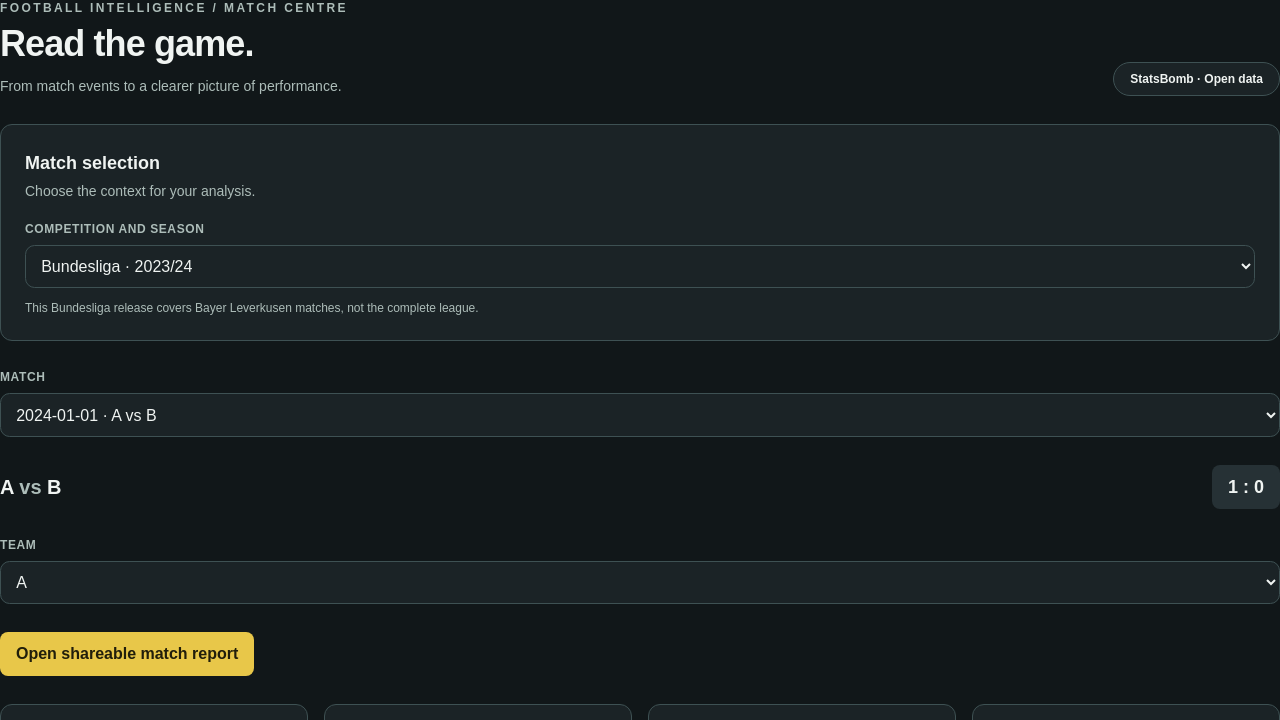
Test case: clears match and player content when a different season has no matches
Select "Bundesliga · 2024/25" in the dropdown labelled "Competition and season": (640, 267) [25,245,1255,288]
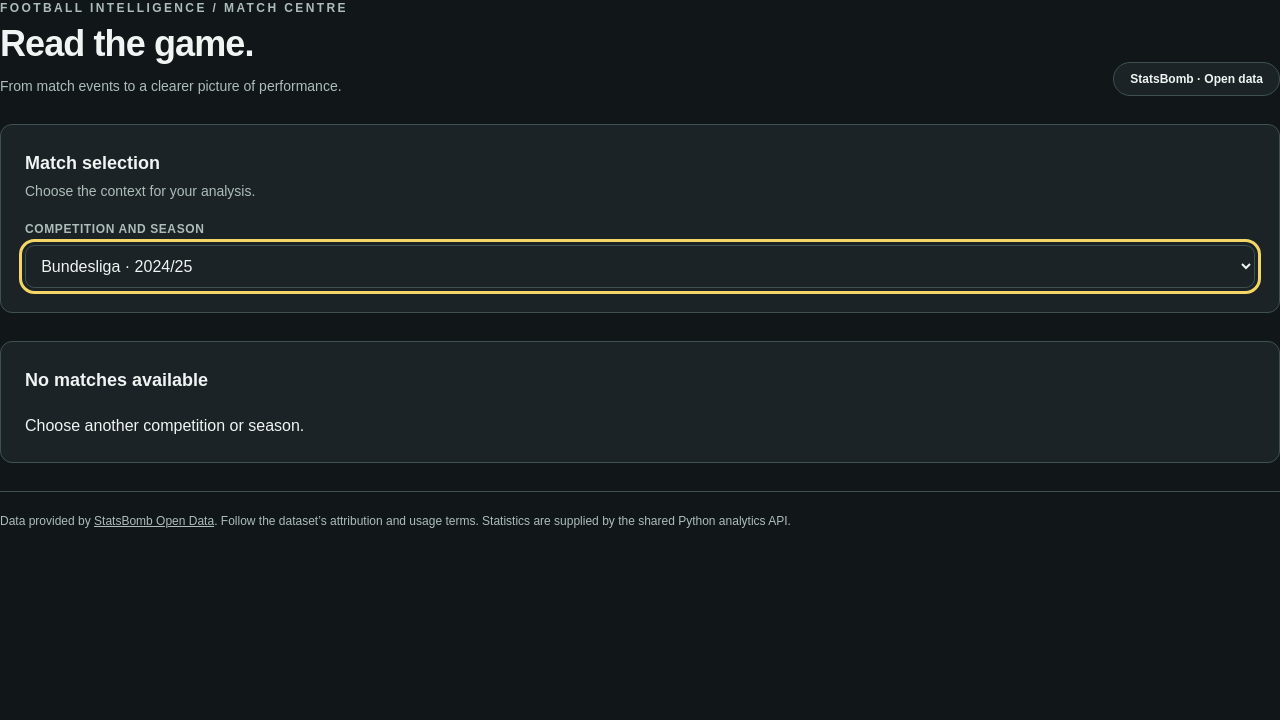
Expected: the heading "No matches available" is shown, [25,370,208,390]
